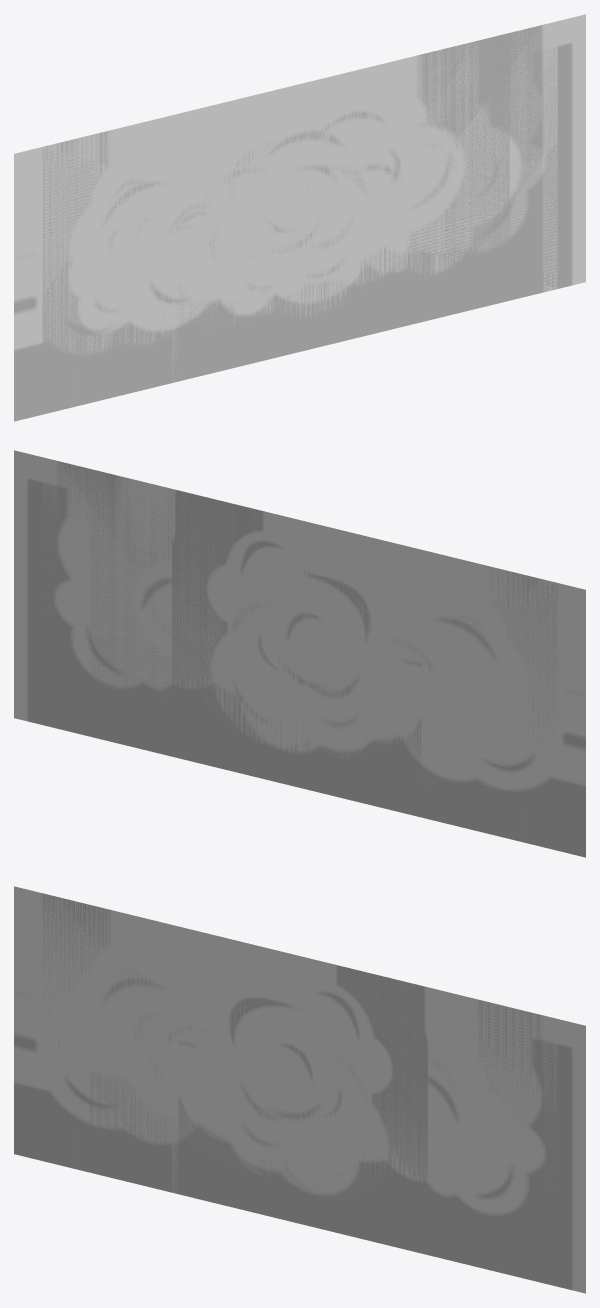
The model's file is puff_balk_.glb.
3 views of the same model, one above another, from view 1: azimuth 30°, elevation 25°; view 2: azimuth 150°, elevation 25°; view 3: azimuth 330°, elevation 25° (orthographic).
Visible parts, largest first — view 1: puff7, puff6, puff8, puff1; view 2: puff6, puff1, puff7, puff8; view 3: puff6, puff1, puff7, puff8.
Part boxes in pixels (left/top/right/bottom): puff7: left=42, top=21, right=557, bottom=414; puff6: left=14, top=14, right=585, bottom=421; puff8: left=90, top=33, right=509, bottom=366; puff1: left=172, top=75, right=427, bottom=380; puff6: left=14, top=450, right=585, bottom=857; puff1: left=172, top=489, right=427, bottom=808; puff7: left=42, top=457, right=557, bottom=782; puff8: left=90, top=470, right=502, bottom=798; puff6: left=14, top=886, right=585, bottom=1293; puff1: left=172, top=925, right=427, bottom=1244; puff7: left=42, top=893, right=557, bottom=1186; puff8: left=90, top=905, right=504, bottom=1241.
Size of the model in its own units: 60.34 by 27 by 5.27e-06.
1 material, 1 textured.
